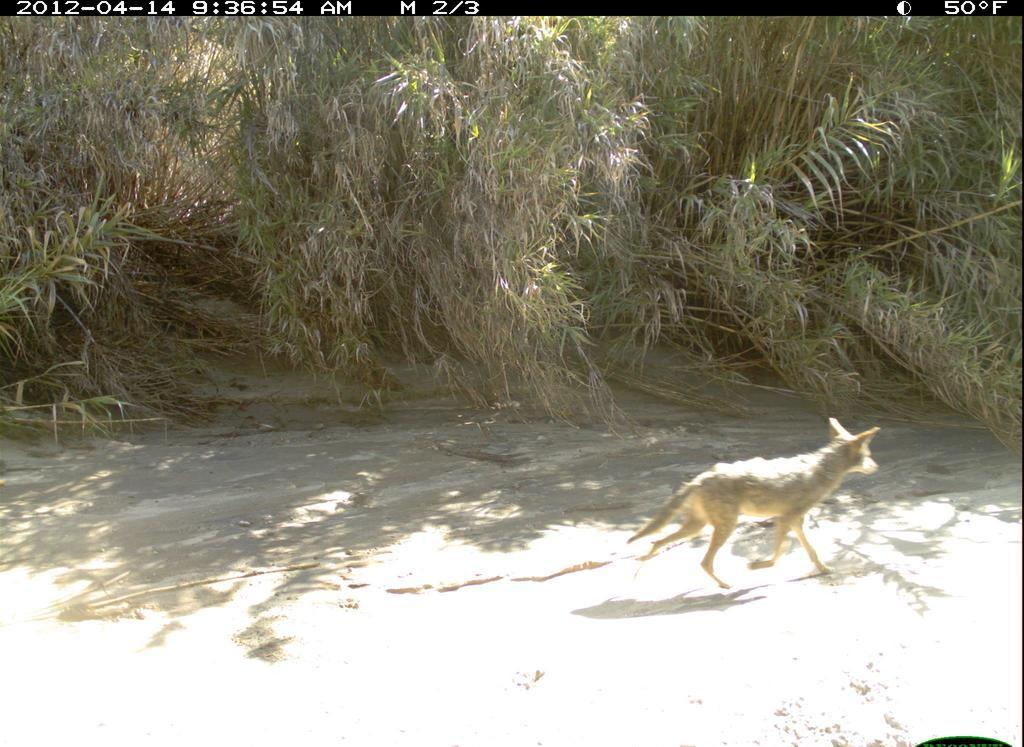coyote: (619, 409, 893, 620)
